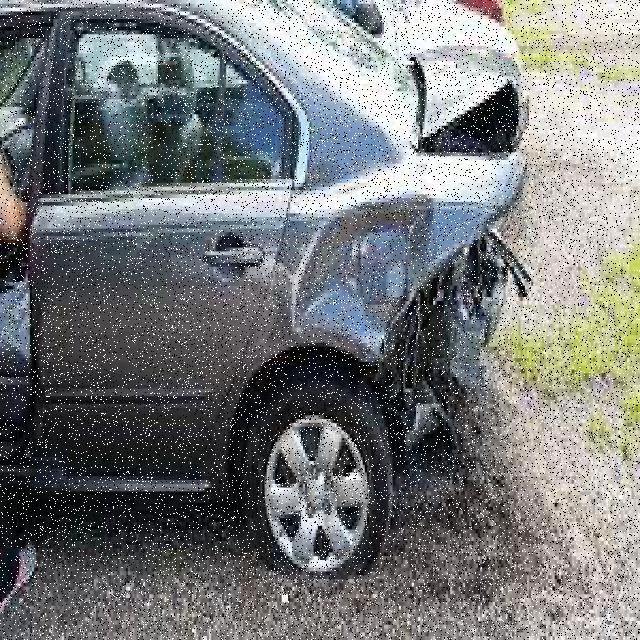quaterpanel-dent: (286, 164, 439, 374)
